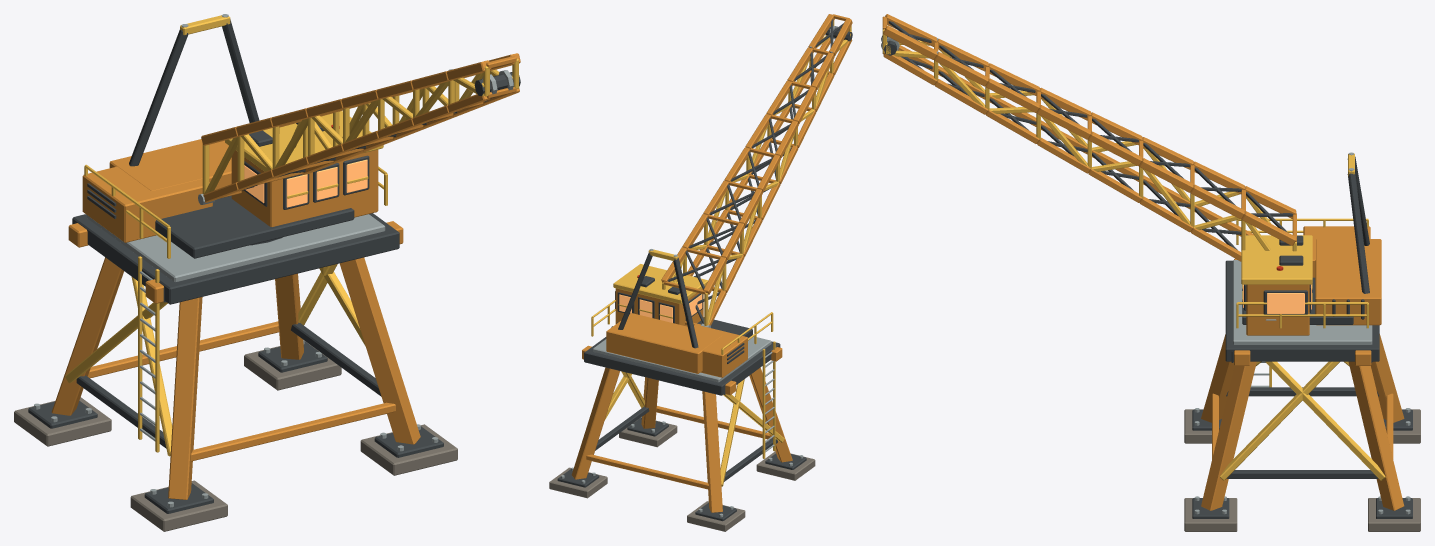
Rendered from dique-grua.glb.
The picture shows the model from 3 angles, left to right: view 1: azimuth 30°, elevation 25°; view 2: azimuth 150°, elevation 25°; view 3: azimuth 270°, elevation 25°; orthographic projection. The views are drawn at different scales.
Parts seen in each view (by area): view 1: Dique_Base_Esmalte, Dique_Base_Acero, Dique_Torreta_Esmalte, Dique_Pluma_Esmalte, Dique_Torreta_Acero, Dique_Base_Hormigon, Dique_Torreta_Cabina, Dique_Pluma_Acero; view 2: Dique_Pluma_Esmalte, Dique_Base_Esmalte, Dique_Torreta_Esmalte, Dique_Base_Acero, Dique_Pluma_Acero, Dique_Base_Hormigon, Dique_Torreta_Acero, Dique_Torreta_Cabina; view 3: Dique_Pluma_Esmalte, Dique_Base_Esmalte, Dique_Torreta_Esmalte, Dique_Base_Acero, Dique_Pluma_Acero, Dique_Base_Hormigon, Dique_Torreta_Acero, Dique_Torreta_Cabina.
Part boxes in pixels (left/top/right/bottom): Dique_Base_Esmalte: left=51, top=221, right=420, bottom=499; Dique_Base_Acero: left=28, top=213, right=443, bottom=513; Dique_Torreta_Esmalte: left=82, top=15, right=387, bottom=258; Dique_Pluma_Esmalte: left=201, top=53, right=520, bottom=202; Dique_Torreta_Acero: left=87, top=14, right=369, bottom=258; Dique_Base_Hormigon: left=14, top=340, right=457, bottom=531; Dique_Torreta_Cabina: left=244, top=159, right=367, bottom=207; Dique_Pluma_Acero: left=241, top=69, right=520, bottom=190; Dique_Pluma_Esmalte: left=661, top=14, right=852, bottom=325; Dique_Base_Esmalte: left=571, top=341, right=792, bottom=512; Dique_Torreta_Esmalte: left=591, top=249, right=773, bottom=377; Dique_Base_Acero: left=557, top=337, right=806, bottom=521; Dique_Pluma_Acero: left=667, top=19, right=852, bottom=323; Dique_Base_Hormigon: left=549, top=417, right=815, bottom=531; Dique_Torreta_Acero: left=611, top=249, right=752, bottom=363; Dique_Torreta_Cabina: left=619, top=294, right=702, bottom=322; Dique_Pluma_Esmalte: left=882, top=14, right=1296, bottom=261; Dique_Base_Esmalte: left=1201, top=258, right=1404, bottom=510; Dique_Torreta_Esmalte: left=1236, top=153, right=1381, bottom=335; Dique_Base_Acero: left=1192, top=260, right=1412, bottom=518; Dique_Pluma_Acero: left=881, top=21, right=1293, bottom=249; Dique_Base_Hormigon: left=1184, top=409, right=1420, bottom=531; Dique_Torreta_Acero: left=1242, top=152, right=1369, bottom=324; Dique_Torreta_Cabina: left=1243, top=284, right=1311, bottom=313.
Size of the model in its own units: 6.88 by 12.85 by 13.83.
